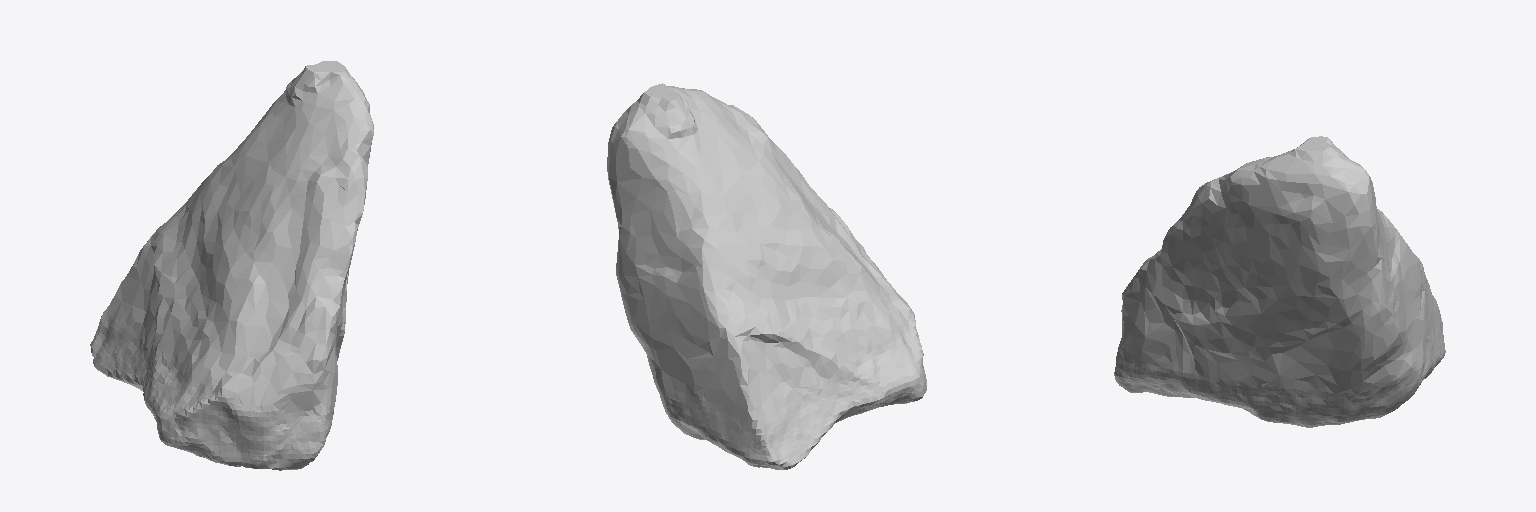
The model's file is chnaged.obj.
3 renders of one model, left to right at view 1: azimuth 30°, elevation 25°; view 2: azimuth 150°, elevation 25°; view 3: azimuth 270°, elevation 25°, orthographic.
Visible parts, largest first — view 1: final.obj; view 2: final.obj; view 3: final.obj.
Part boxes in pixels (x1,y1,x2,y2): final.obj: (90,61,373,470); final.obj: (607,83,926,469); final.obj: (1114,136,1445,427).
Size of the model in its own units: 66.98 by 79.02 by 76.79.